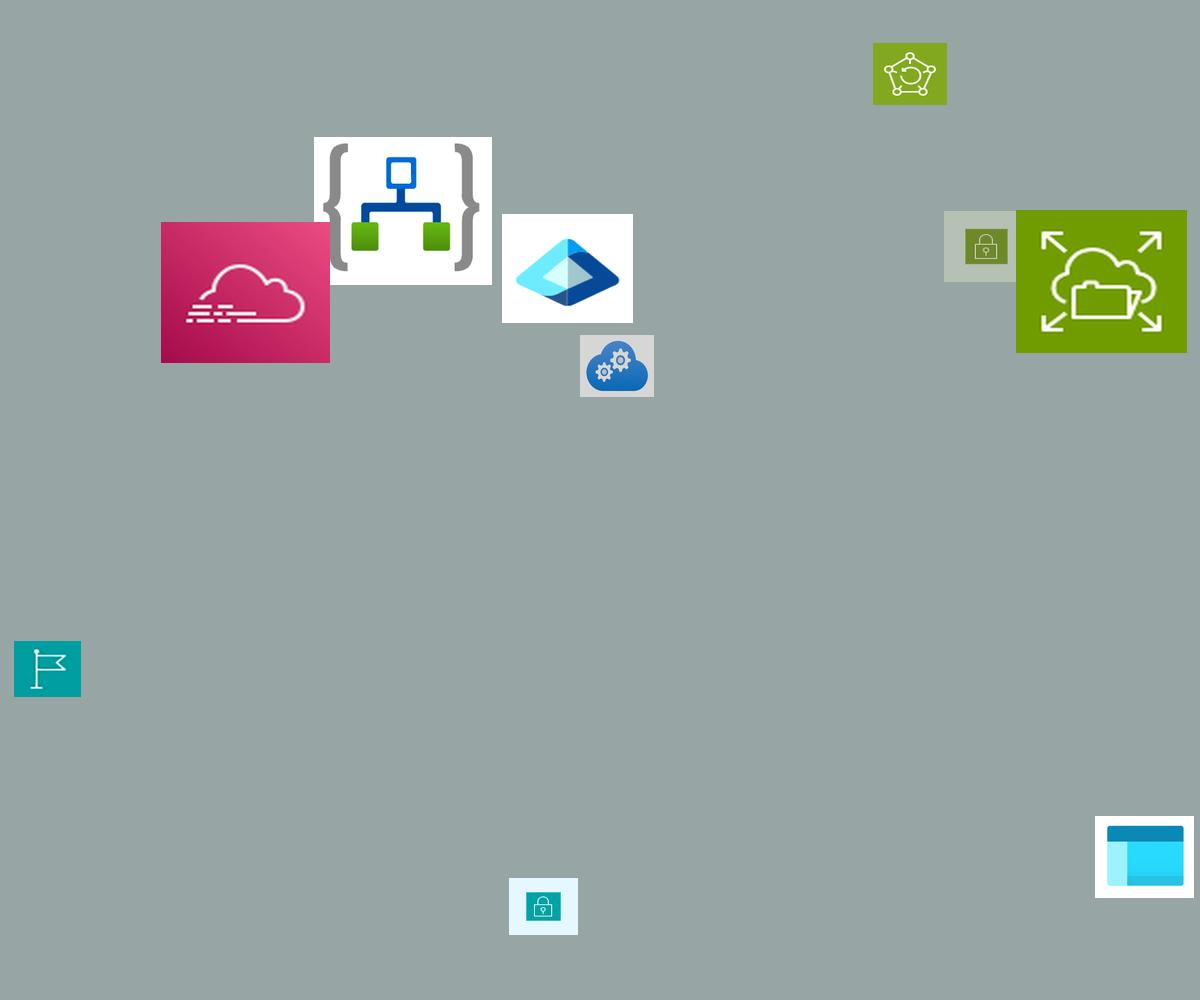AWS-Backup: (873, 43, 947, 105)
AWS-CloudTrail: (161, 222, 330, 363)
AWS-EFS: (1016, 210, 1187, 353)
AWS-Private-subnet: (509, 878, 578, 935)
AWS-Public-subnet: (944, 211, 1029, 282)
AWS-Region: (14, 641, 81, 697)
Azure_cloud_services: (580, 335, 654, 397)
Azure_integration-204-Logic-Apps: (314, 137, 492, 285)
Azure_management-portal: (1095, 816, 1194, 898)
Azure_microsoft_entra: (502, 214, 633, 323)
